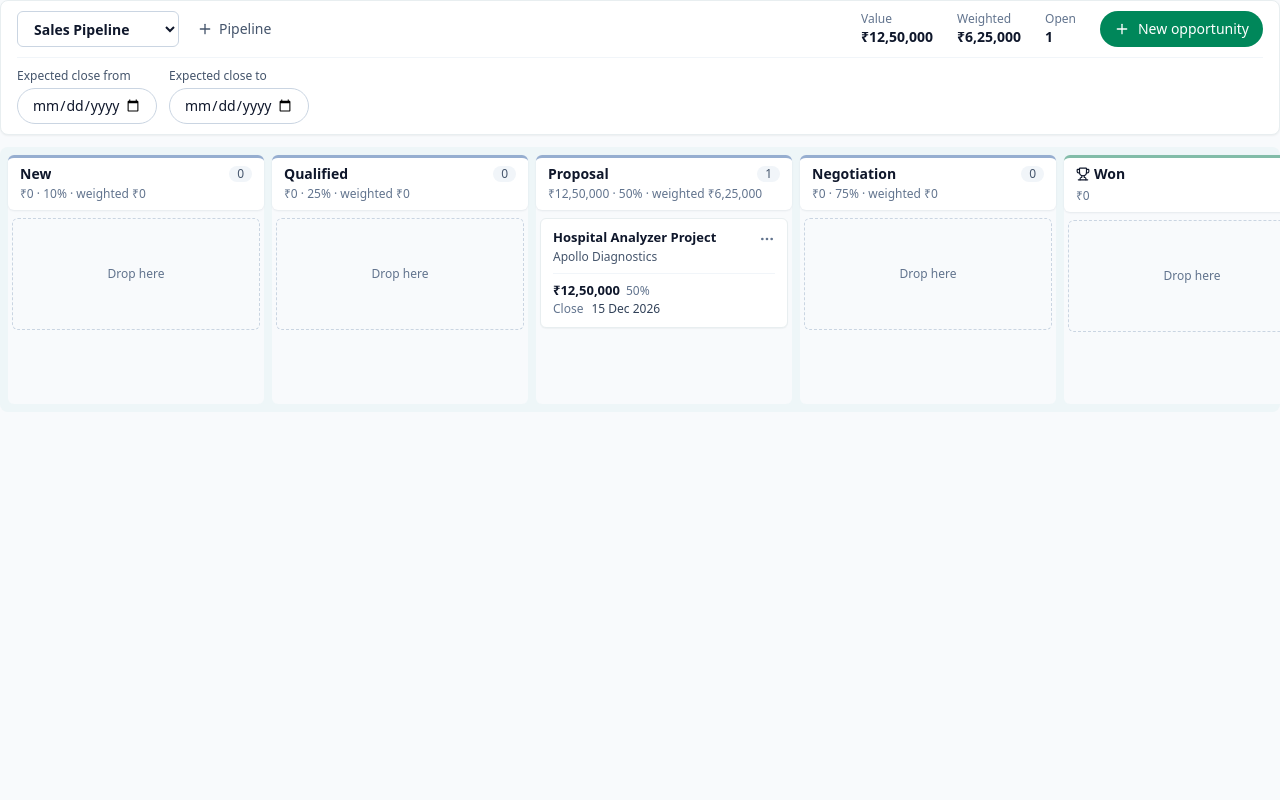
Scenario: F2: the next move after a successful one › sends the version the server returned, even before the board reloads
What coordinates should you click on to do the following:
click the button named "Move Hospital Analyzer Project"
I would click on:
 (767, 239)
Its box is [751,223,783,255].
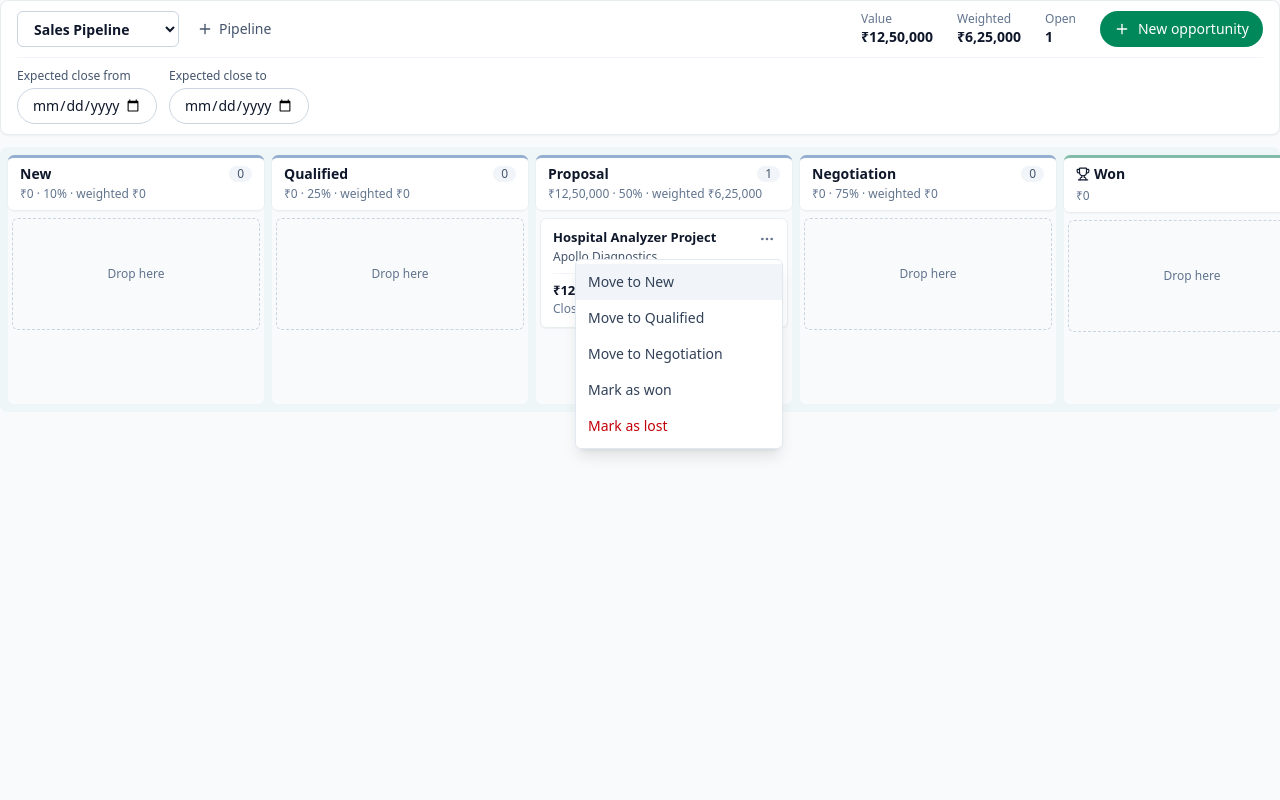
What coordinates should you click on to do the following:
click the menu item "Move to Qualified"
I would click on:
 (679, 318)
Its box is [576,300,782,336].
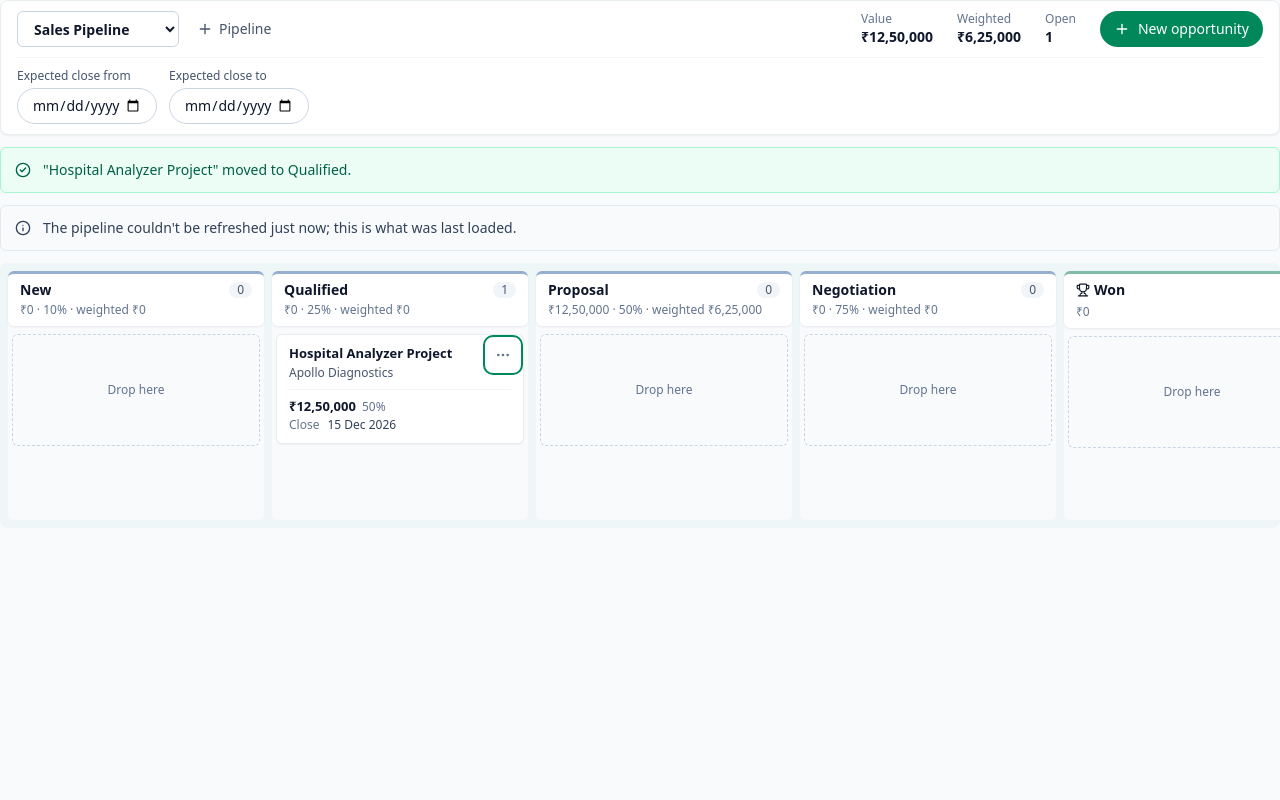
Now the text "\"Hospital Analyzer Project\" moved to Qualified." is shown, box [43,160,351,179]
What coordinates should you click on to do the following:
click the button named "Move Hospital Analyzer Project"
I would click on:
 (503, 355)
Its box is [487,339,519,371].
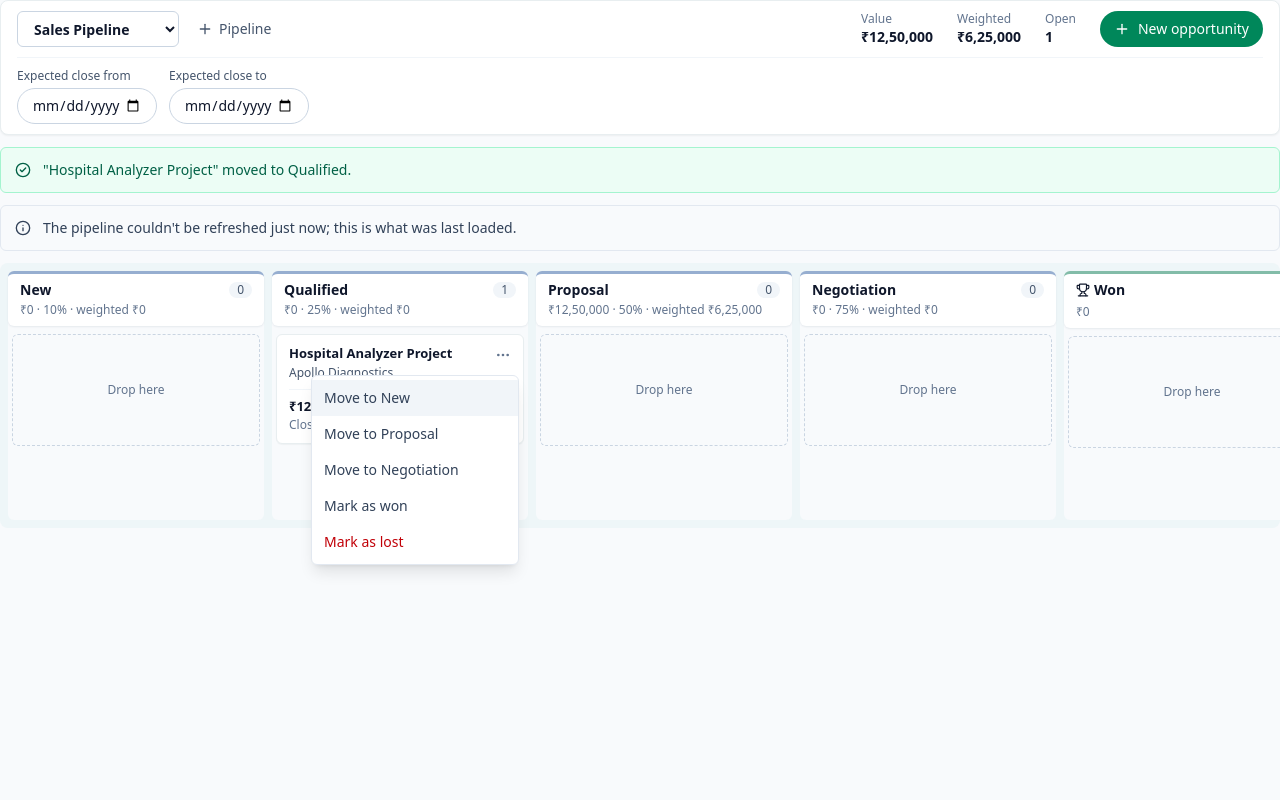
What coordinates should you click on to do the following:
click the menu item "Move to New"
I would click on:
 (415, 398)
Its box is [312,380,518,416].
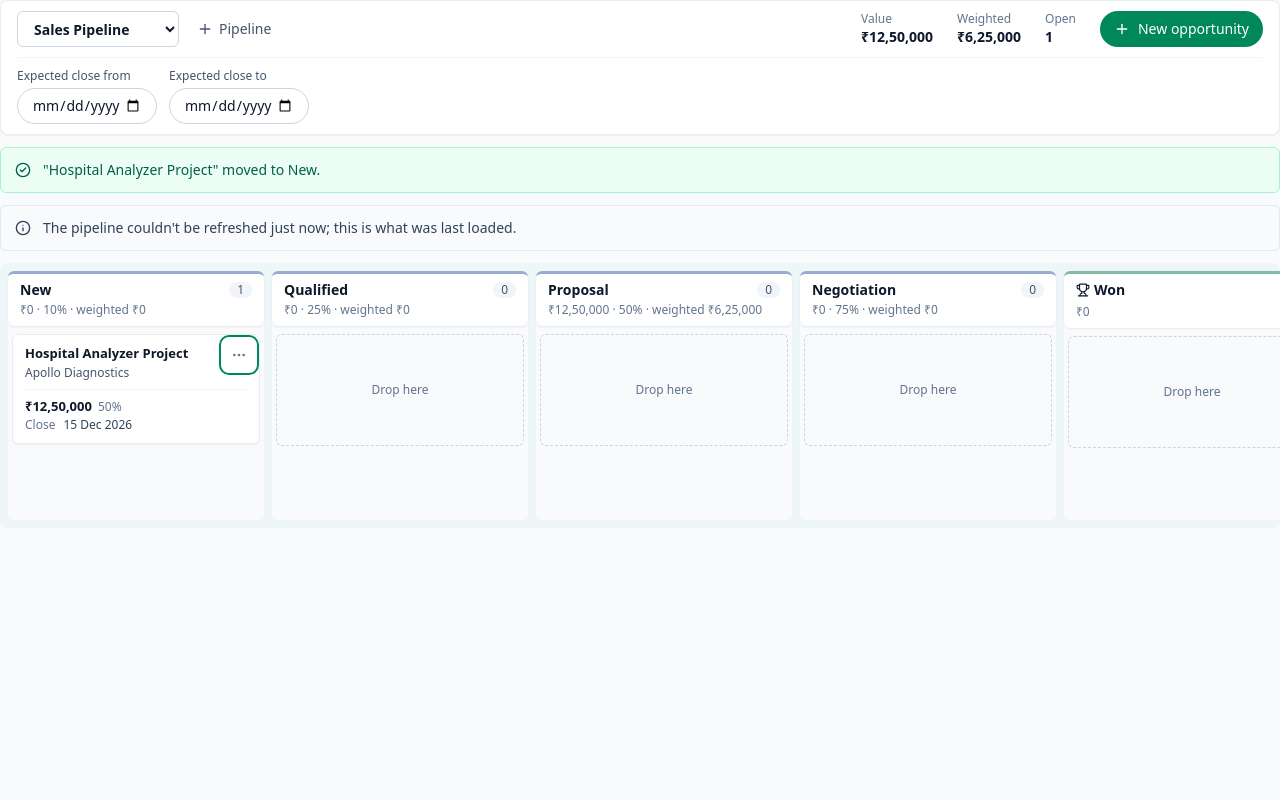
Now the text "\"Hospital Analyzer Project\" moved to New." is shown, box [43,160,320,179]
